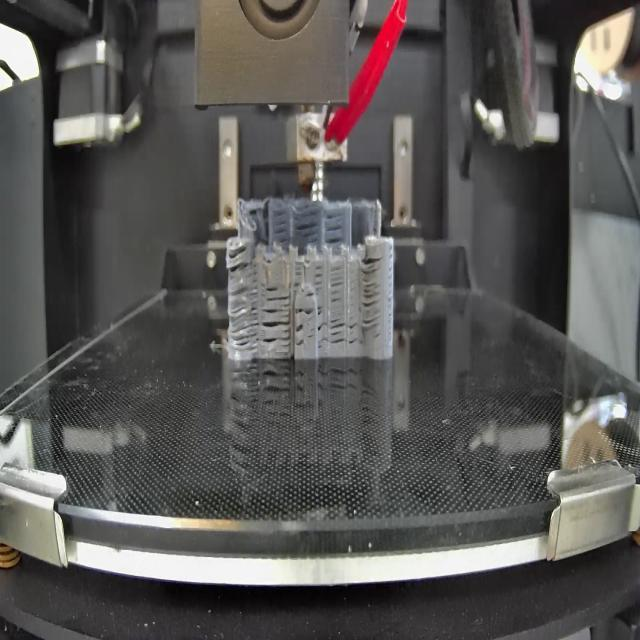cracks: (230, 285, 260, 350), (361, 253, 383, 332), (263, 303, 292, 354), (317, 318, 360, 346), (228, 240, 255, 272), (295, 210, 320, 242), (273, 207, 291, 242), (330, 265, 344, 306), (267, 281, 291, 304), (327, 215, 345, 241), (296, 303, 324, 316), (294, 321, 307, 349), (313, 261, 327, 287), (294, 263, 303, 288), (302, 289, 317, 301), (248, 206, 259, 217)
